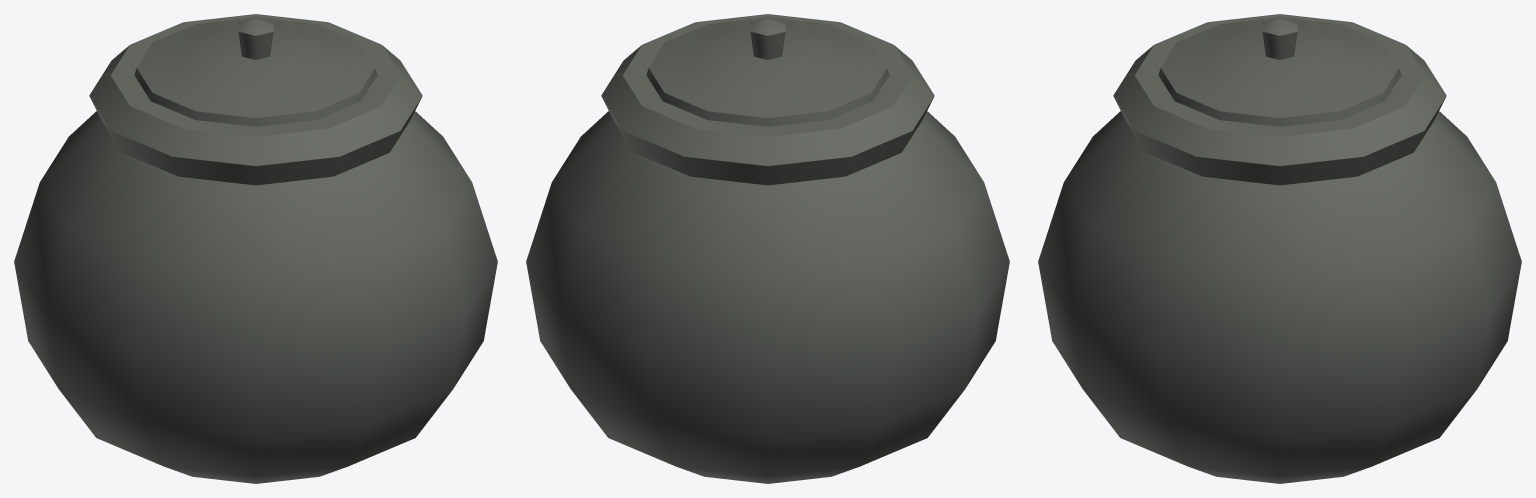
File: Pot_Steel_B.fbx
3 renders of one model, left to right at view 1: azimuth 30°, elevation 25°; view 2: azimuth 150°, elevation 25°; view 3: azimuth 270°, elevation 25°, orthographic.
Visible parts, largest first — view 1: Pot_Steel_B; view 2: Pot_Steel_B; view 3: Pot_Steel_B.
Boxes of the visible parts, x1=… form: Pot_Steel_B: x1=14, y1=14, x2=497, y2=483; Pot_Steel_B: x1=526, y1=14, x2=1009, y2=483; Pot_Steel_B: x1=1038, y1=14, x2=1521, y2=483.
Size of the model in its own units: 43.87 by 41.2 by 43.87.
